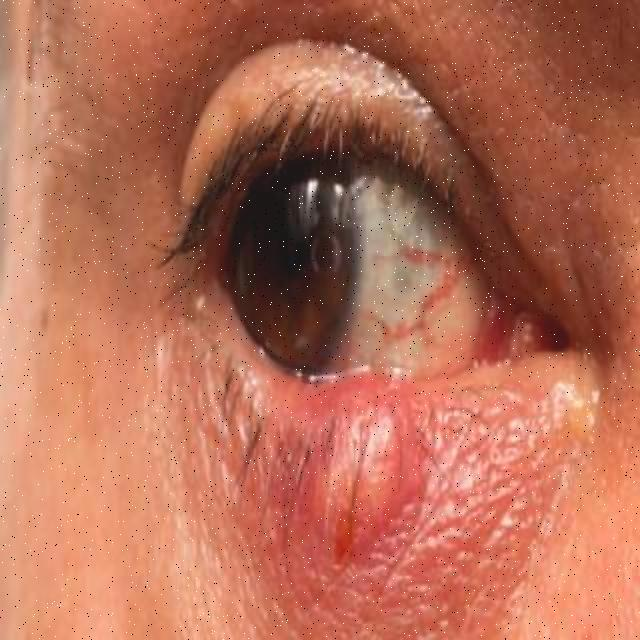Stye: (228, 318, 502, 614)
